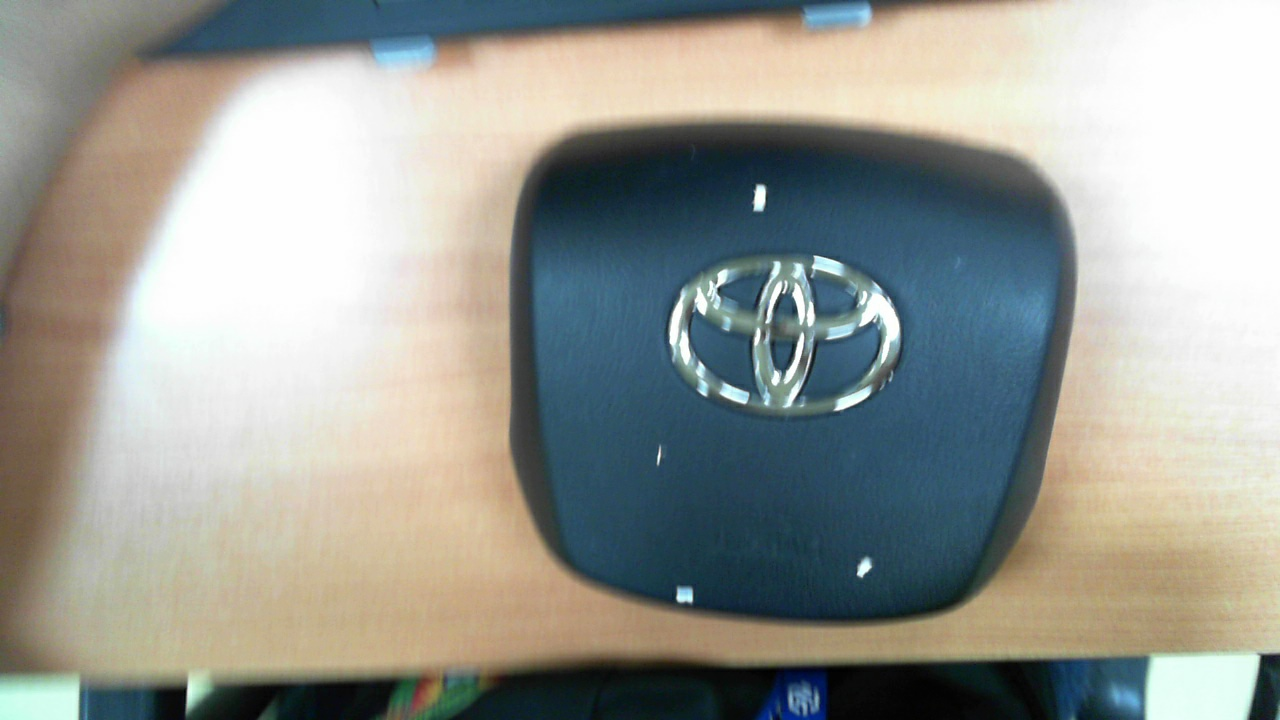Airbag: (509, 121, 1078, 623)
Mark: (752, 183, 768, 214), (855, 555, 874, 579), (675, 583, 694, 604), (655, 444, 662, 467)
